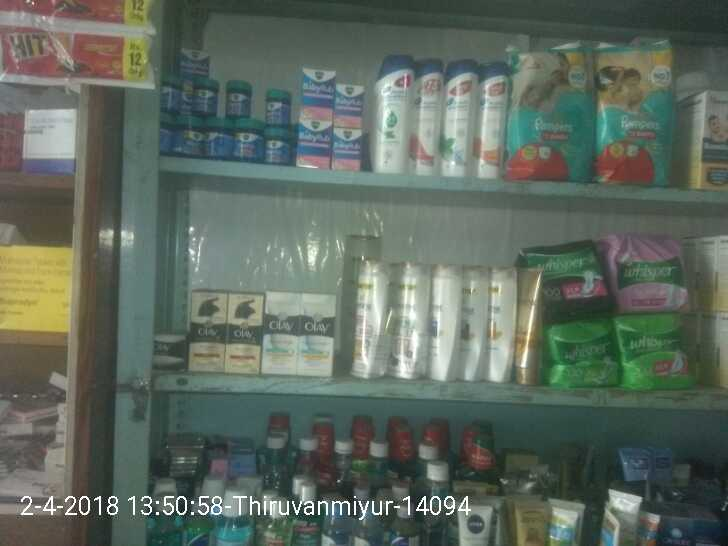vicks: (164, 37, 363, 173)
